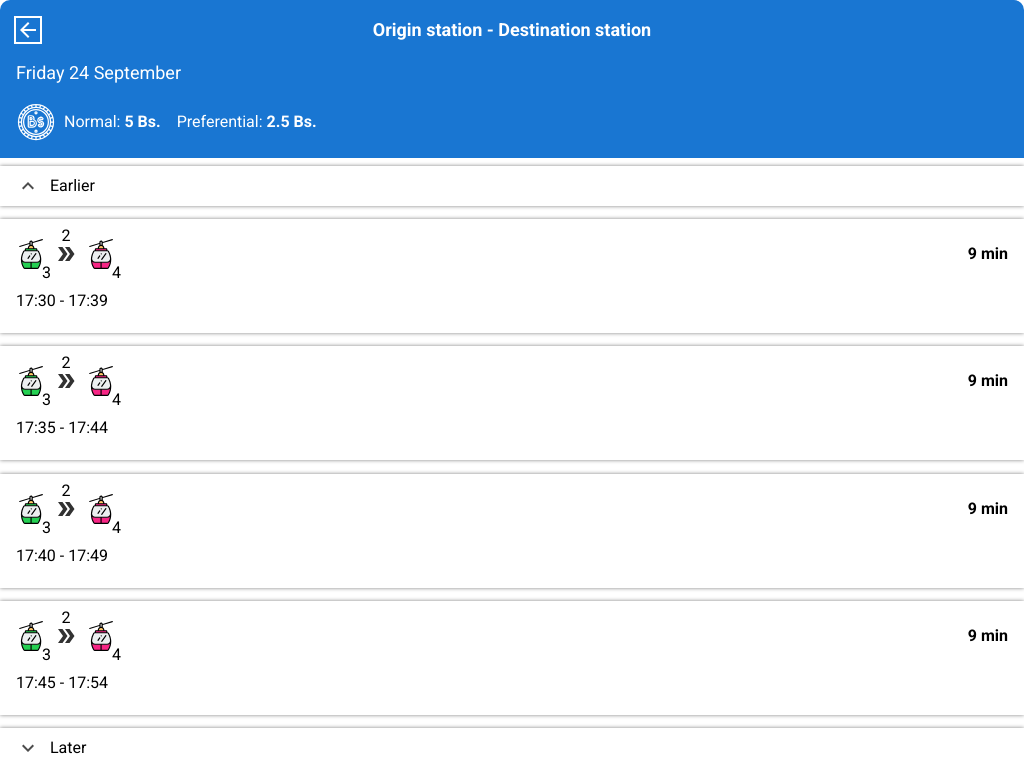
Test: RoutesOverviewContainer › displays later route time when clicking on later button
Click the button "Later": click(68, 747) [0,728,1023,767]
(page scrolled)
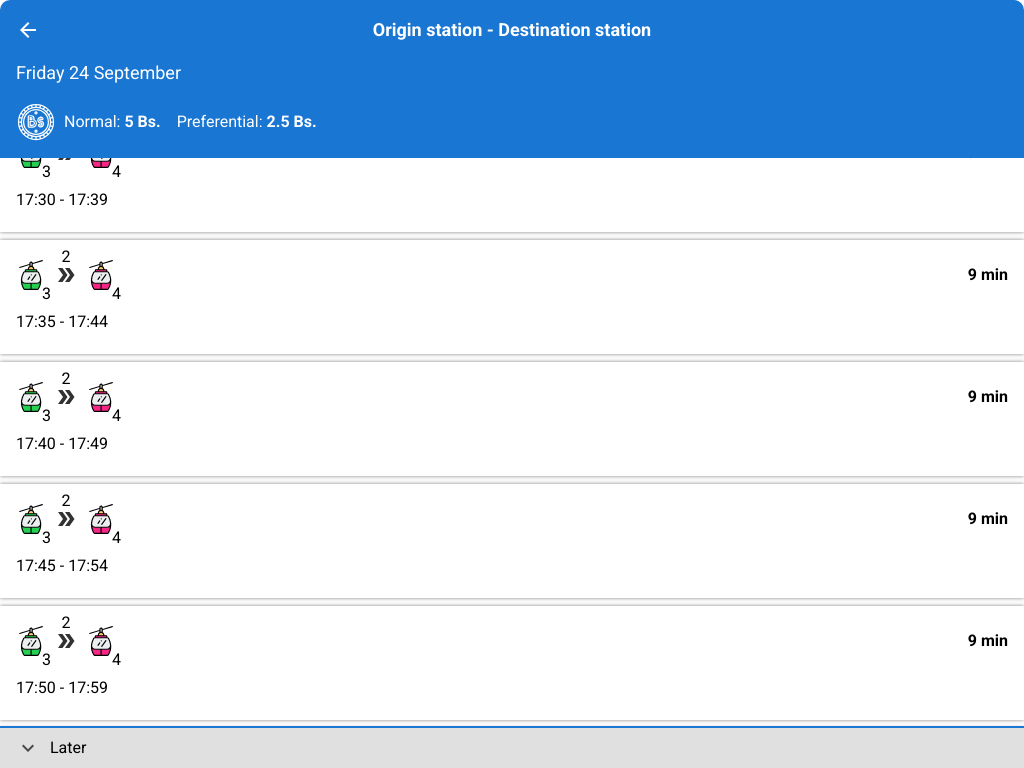
Expected: the text "17:50 - 17:59" is shown, [16,678,108,697]
